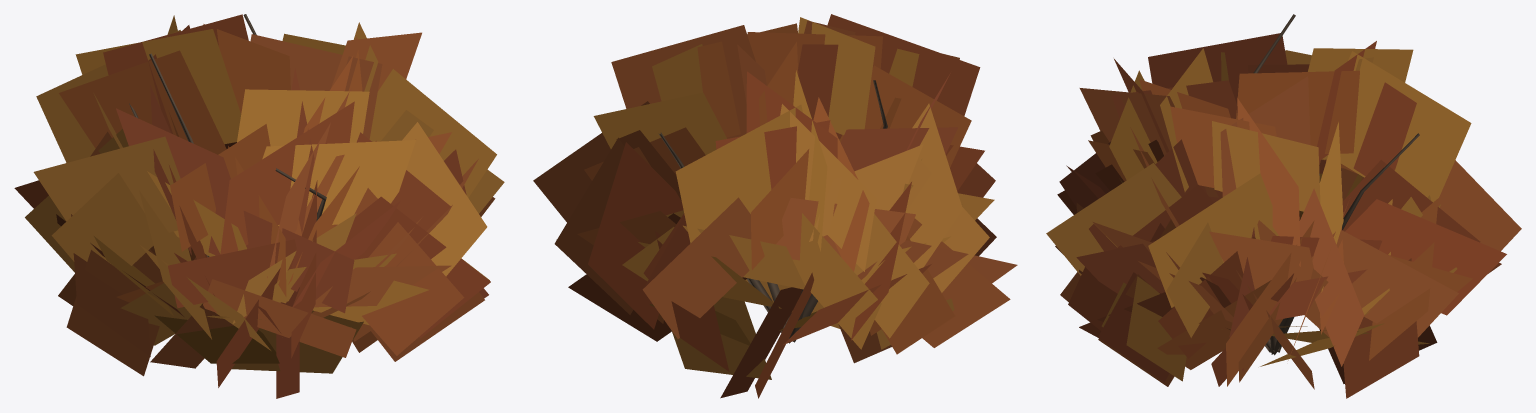
The model's file is shrub.broadleaf.autumn.glb.
3 renders of one model, left to right at view 1: azimuth 30°, elevation 25°; view 2: azimuth 150°, elevation 25°; view 3: azimuth 270°, elevation 25°, orthographic. The views are drawn at different scales.
Visible parts, largest first — view 1: shrub_broadleaf_autumn; view 2: shrub_broadleaf_autumn; view 3: shrub_broadleaf_autumn.
Part boxes in pixels (x1=…): shrub_broadleaf_autumn: x1=14, y1=14, x2=504, y2=398; shrub_broadleaf_autumn: x1=533, y1=14, x2=1017, y2=398; shrub_broadleaf_autumn: x1=1046, y1=14, x2=1521, y2=398.
Size of what is drawn, in the model's own units: 2.26 by 1.67 by 2.24.
